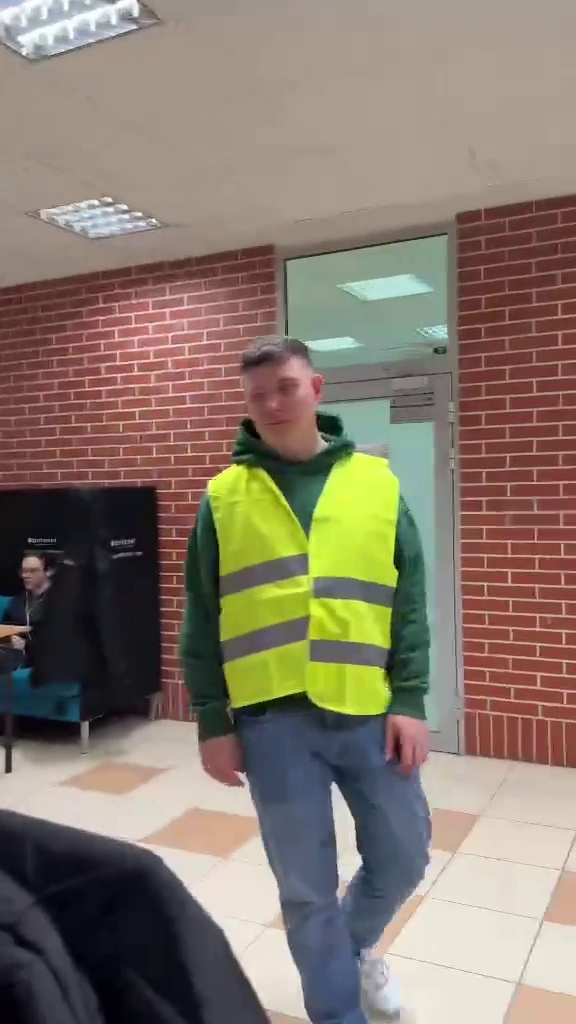vest: (178, 333, 448, 1023)
